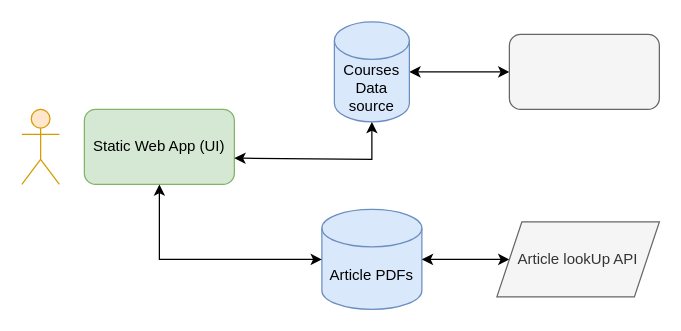
Image size: 681x331. Some labels were removed from this diagram. The centre of each missing label's shape, as x and y in pixels:
"Actor" belongs at (x=40, y=146).
"Instructors' profiles" belongs at (x=583, y=71).
